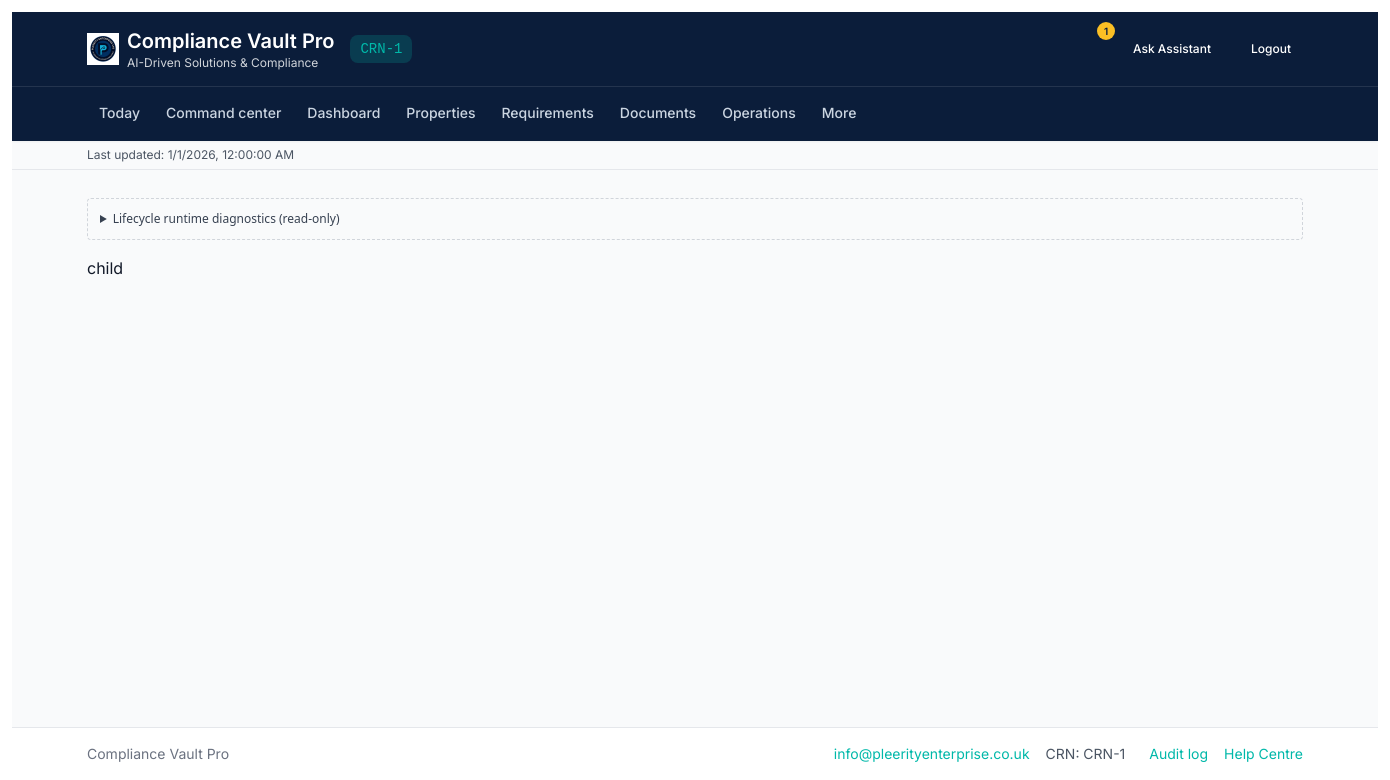
Test case: ClientPortalLayout notification bell › shows the unread item when count is 1
This screenshot has width=1390, height=780.
Expected: the text named "1 unread" is shown, top-left (1097, 22), bottom-right (1115, 40)
Step 1. Click the button named "notifications" → (1091, 46), box top-left (1069, 24), bottom-right (1113, 68)
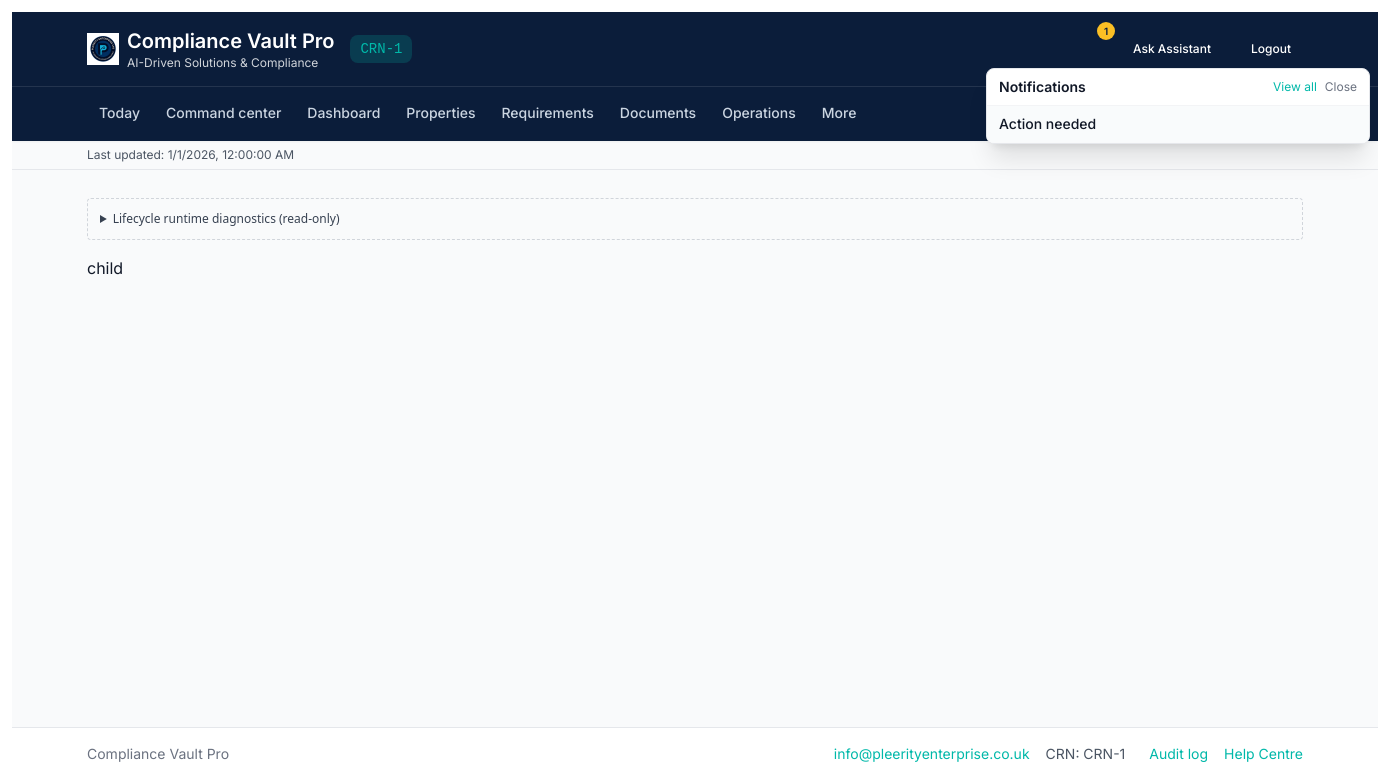
Result: the text "Action needed" is shown at top-left (999, 115), bottom-right (1096, 132)
